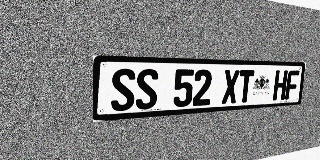2: (192, 69, 212, 106)
5: (173, 69, 194, 107)
F: (285, 70, 300, 100)
H: (272, 70, 288, 101)
S: (111, 69, 136, 112), (135, 69, 159, 110)
T: (237, 70, 254, 103)
X: (221, 70, 240, 104)
